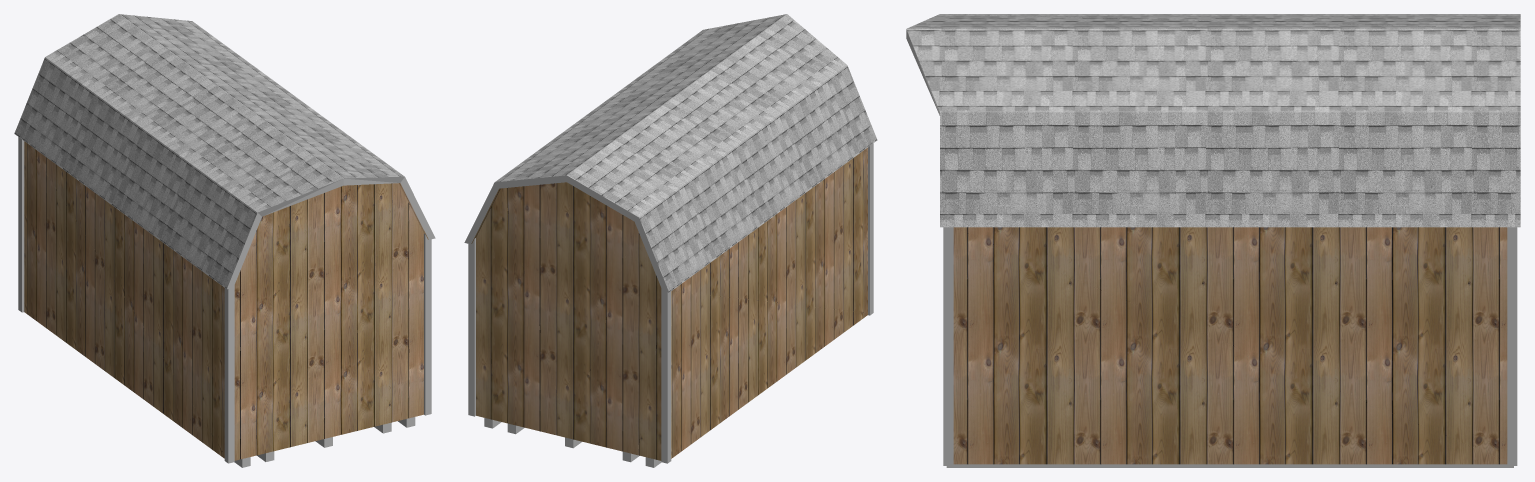
The model's file is High Wall Barns_8x14.obj.
3 views of the same model, side by side, from view 1: azimuth 30°, elevation 25°; view 2: azimuth 150°, elevation 25°; view 3: azimuth 270°, elevation 25° (orthographic). The views are drawn at different scales.
Parts seen in each view (by area): view 1: Shed, Roof, Trim, Sides, Floor; view 2: Shed, Roof, Trim, Sides, Floor; view 3: Shed, Roof, Trim, Floor.
Boxes of the visible parts, bbox=[...] form: Shed: bbox=[24, 141, 428, 460]; Roof: bbox=[14, 14, 404, 288]; Trim: bbox=[18, 137, 431, 463]; Sides: bbox=[227, 176, 435, 289]; Floor: bbox=[234, 417, 415, 467]; Shed: bbox=[471, 147, 867, 460]; Roof: bbox=[495, 14, 877, 292]; Trim: bbox=[468, 143, 873, 463]; Sides: bbox=[464, 175, 668, 292]; Floor: bbox=[484, 418, 661, 467]; Shed: bbox=[953, 227, 1507, 464]; Roof: bbox=[906, 14, 1520, 227]; Trim: bbox=[943, 227, 1517, 465]; Floor: bbox=[946, 464, 1513, 467].
Bounding box in the file's own units: 2.48 × 3.17 × 4.62.
